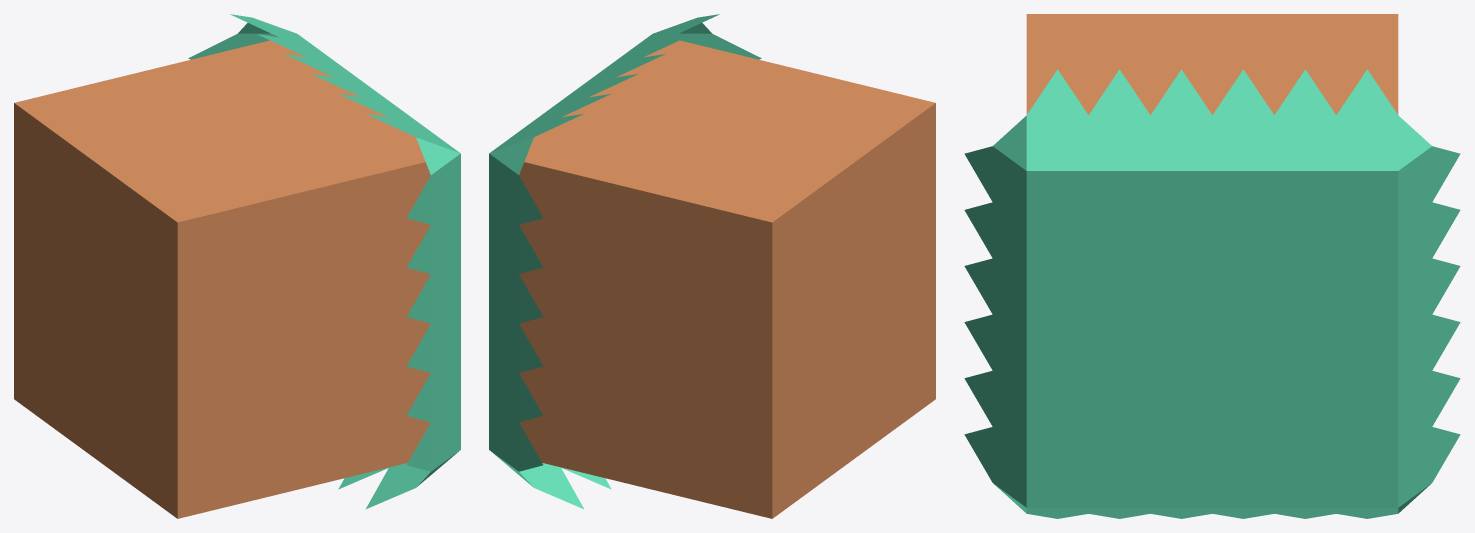
The model's file is Tile_Grass.fbx.
3 views of the same model, side by side, from view 1: azimuth 30°, elevation 25°; view 2: azimuth 150°, elevation 25°; view 3: azimuth 270°, elevation 25° (orthographic). The views are drawn at different scales.
Parts seen in each view (by area): view 1: block; view 2: block; view 3: block.
Part boxes in pixels (x1,y1,x2,y2): block: (14,14,460,518); block: (489,14,935,518); block: (964,14,1460,518).
Size of the model in its own units: 39.37 by 52.58 by 52.58.
